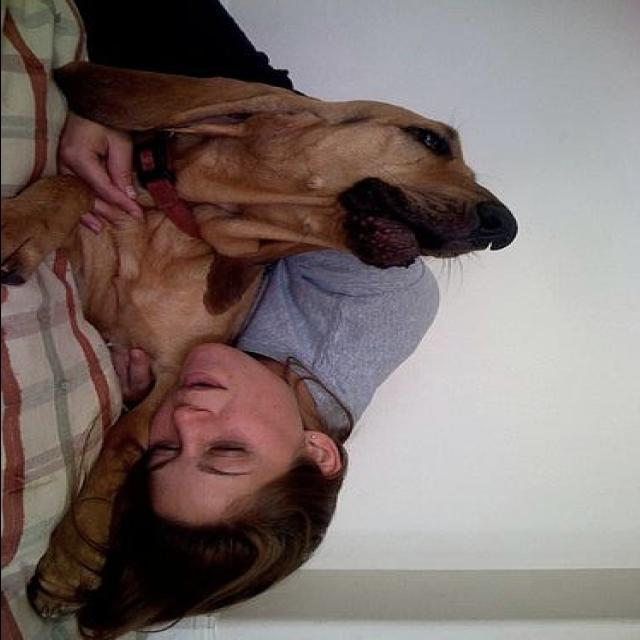bloodhound: (1, 64, 518, 626)
